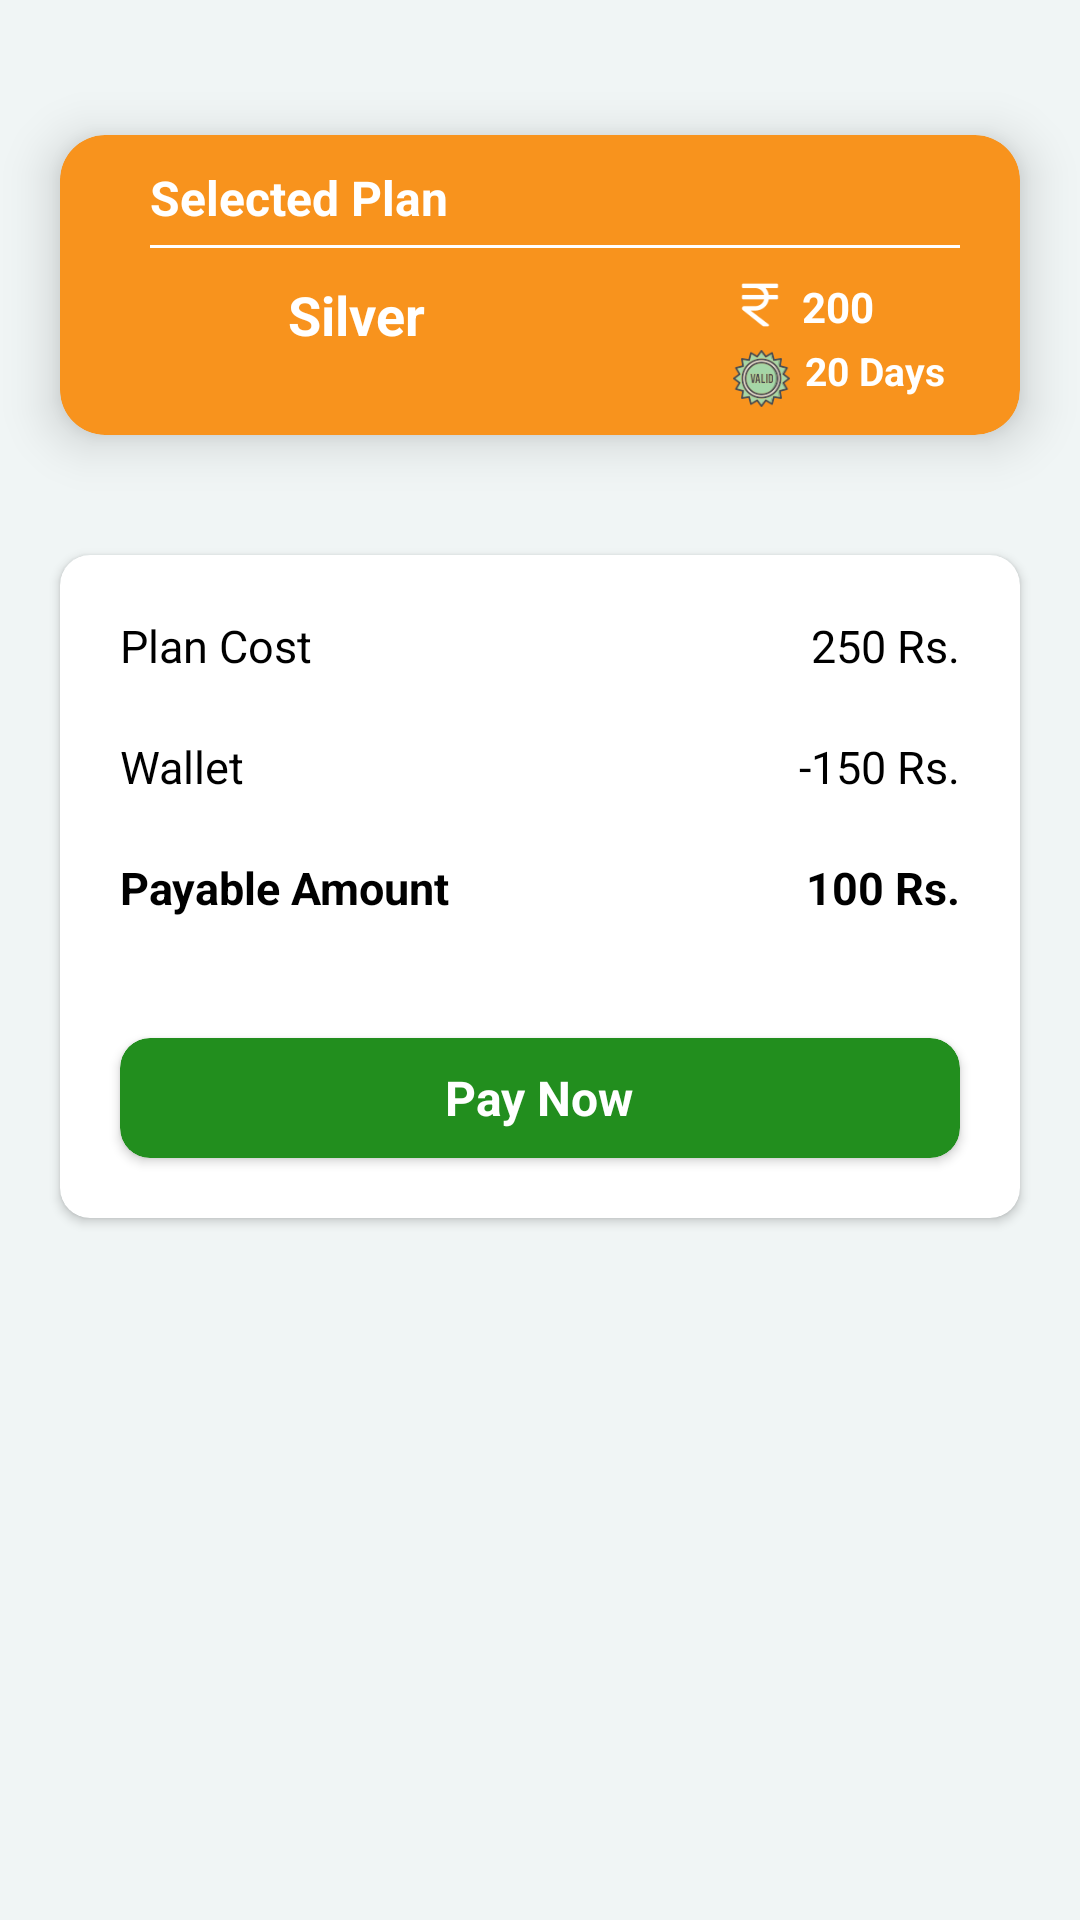

Locate icon controls on the screen. Image size 1080w x 1920h, boxes as (x1, y1, x2, y2).
rupee: (741, 283, 779, 327)
